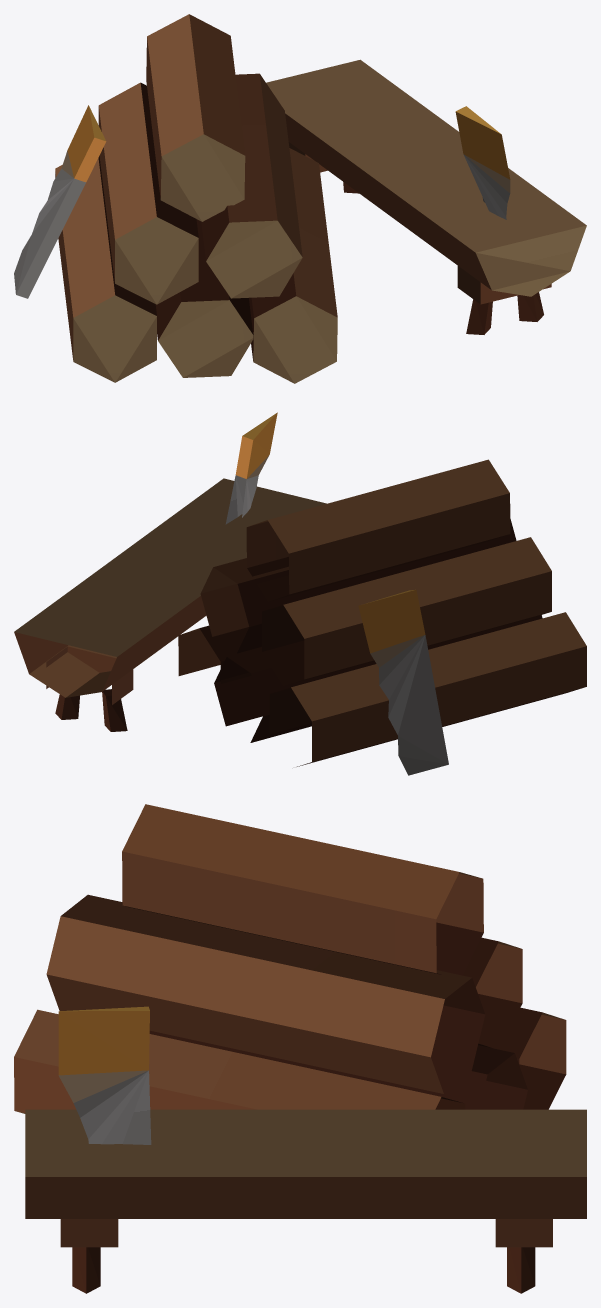
File: village-decor00.fbx
The picture shows the model from 3 angles, top to bottom: view 1: azimuth 30°, elevation 25°; view 2: azimuth 150°, elevation 25°; view 3: azimuth 270°, elevation 25°; orthographic projection. The views are drawn at different scales.
Visible parts, largest first — view 1: village-decor00; view 2: village-decor00; view 3: village-decor00.
Part boxes in pixels (bbox=[...]): village-decor00: bbox=[14, 14, 586, 383]; village-decor00: bbox=[14, 412, 586, 775]; village-decor00: bbox=[14, 804, 586, 1293].
Bounding box in the file's own units: 0.9767 × 0.4956 × 0.8631.
1 material, 1 textured.
